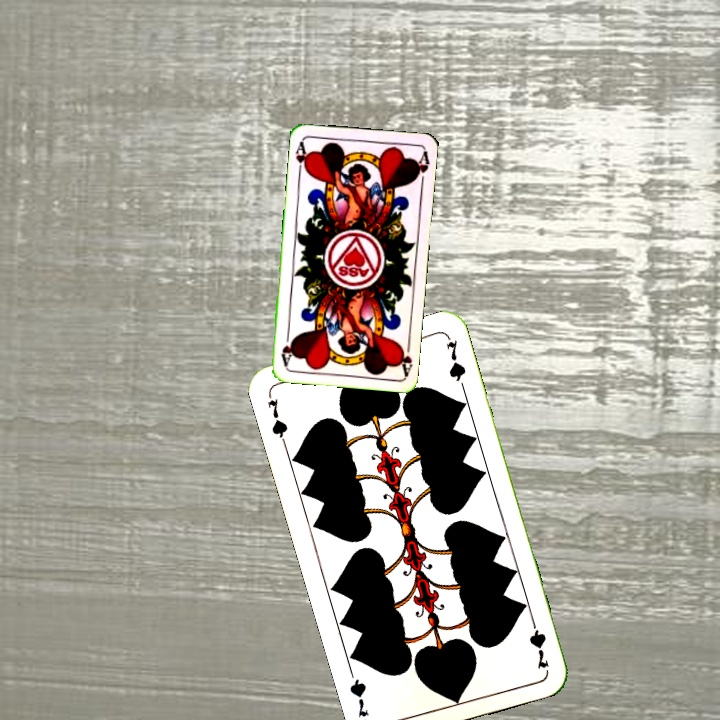G7: (263, 388, 291, 446), (525, 612, 552, 671)
HA: (394, 336, 415, 377), (291, 137, 311, 178)
